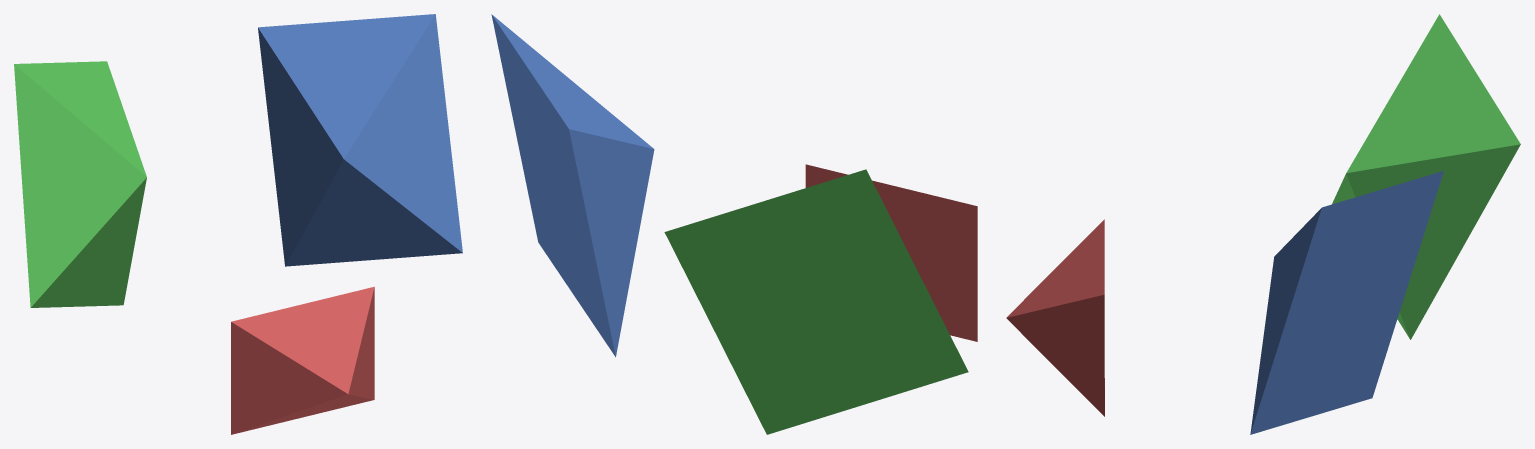
The model's file is scene_filtered.glb.
3 views of the same model, side by side, from view 1: azimuth 30°, elevation 25°; view 2: azimuth 150°, elevation 25°; view 3: azimuth 270°, elevation 25° (orthographic). The views are drawn at different scales.
Parts seen in each view (by area): view 1: camera_hand_right, camera_hand_left, camera_head; view 2: camera_hand_left, camera_hand_right, camera_head; view 3: camera_hand_right, camera_hand_left, camera_head.
Part boxes in pixels (left/top/right/bottom): camera_hand_right: left=258, top=14, right=462, bottom=266; camera_hand_left: left=14, top=61, right=146, bottom=307; camera_head: left=231, top=286, right=374, bottom=434; camera_hand_left: left=664, top=169, right=968, bottom=434; camera_hand_right: left=491, top=14, right=654, bottom=357; camera_head: left=805, top=164, right=977, bottom=341; camera_hand_right: left=1250, top=171, right=1443, bottom=434; camera_hand_left: left=1332, top=14, right=1520, bottom=339; camera_head: left=1006, top=219, right=1104, bottom=416.
Bounding box in the file's own units: 0.7616 × 0.4943 × 0.7823.
